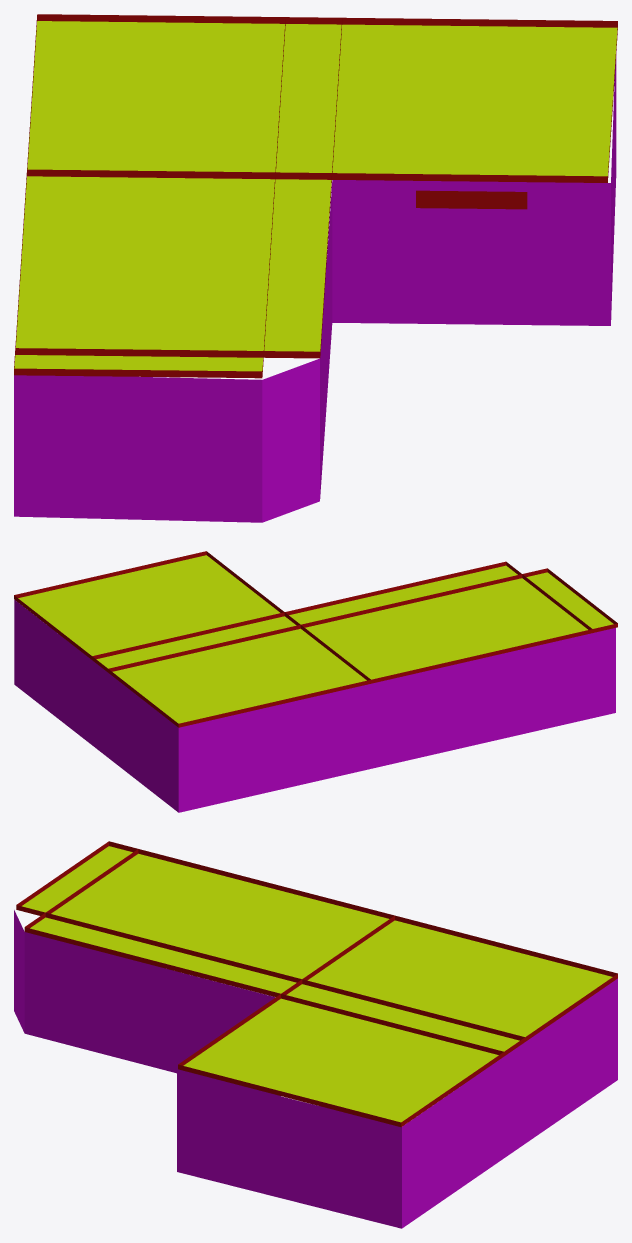
File: bgj_100.glb
3 views of the same model, one above another, from view 1: azimuth 30°, elevation 25°; view 2: azimuth 150°, elevation 25°; view 3: azimuth 270°, elevation 25° (orthographic). The views are drawn at different scales.
Visible parts, largest first — view 1: bgj_100; view 2: bgj_100; view 3: bgj_100.
Boxes of the visible parts, x1,y1,x2,y2 form: bgj_100: (14, 14, 617, 522); bgj_100: (14, 551, 617, 812); bgj_100: (14, 841, 617, 1228).
Bounding box in the file's own units: 43.68 × 7.72 × 39.64.
